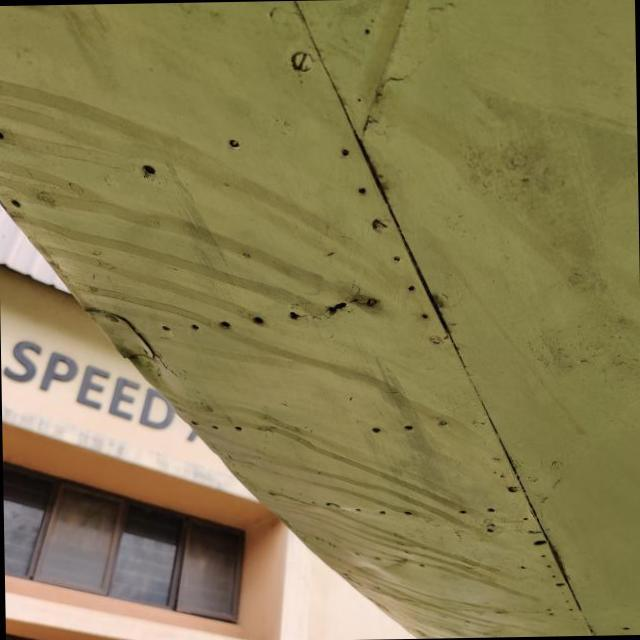Rupture: (318, 289, 357, 328)
